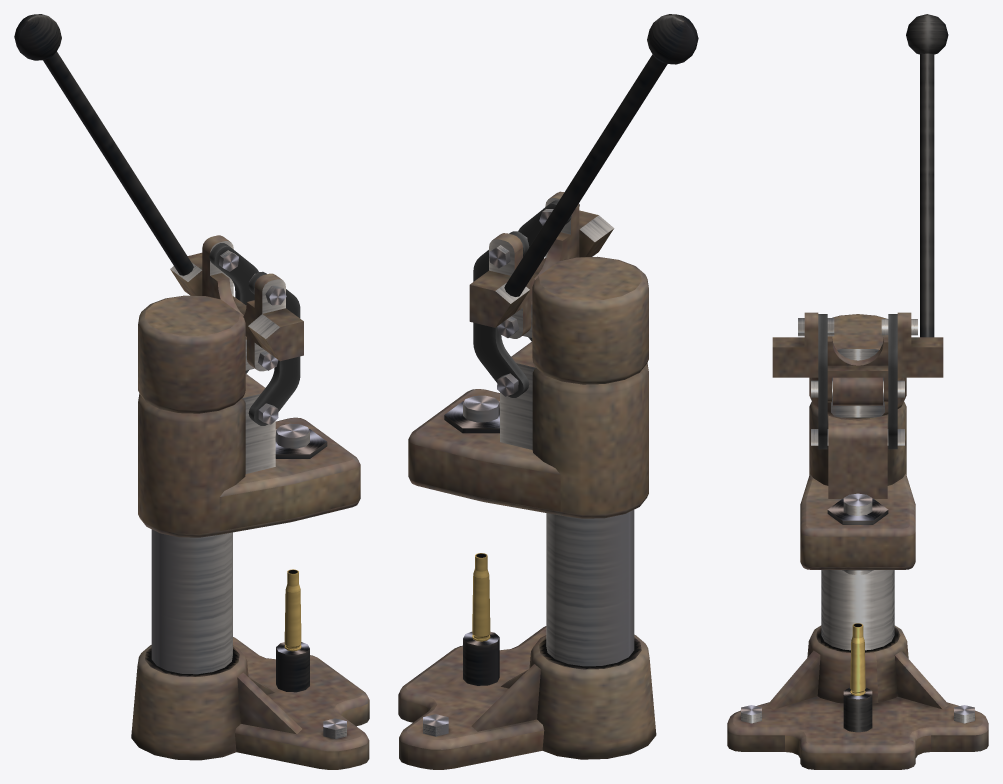
Rendered from ammomaker_ReloadingPress.fbx.
3 renders of one model, left to right at view 1: azimuth 30°, elevation 25°; view 2: azimuth 150°, elevation 25°; view 3: azimuth 270°, elevation 25°, orthographic. The views are drawn at different scales.
Parts seen in each view (by area): view 1: ammomaker_ReloadingPress; view 2: ammomaker_ReloadingPress; view 3: ammomaker_ReloadingPress.
Part boxes in pixels (x1,y1,x2,y2): ammomaker_ReloadingPress: [14, 14, 369, 769]; ammomaker_ReloadingPress: [398, 14, 698, 769]; ammomaker_ReloadingPress: [727, 14, 988, 769].
Size of the model in its own units: 9.69 by 23.16 by 8.6.
